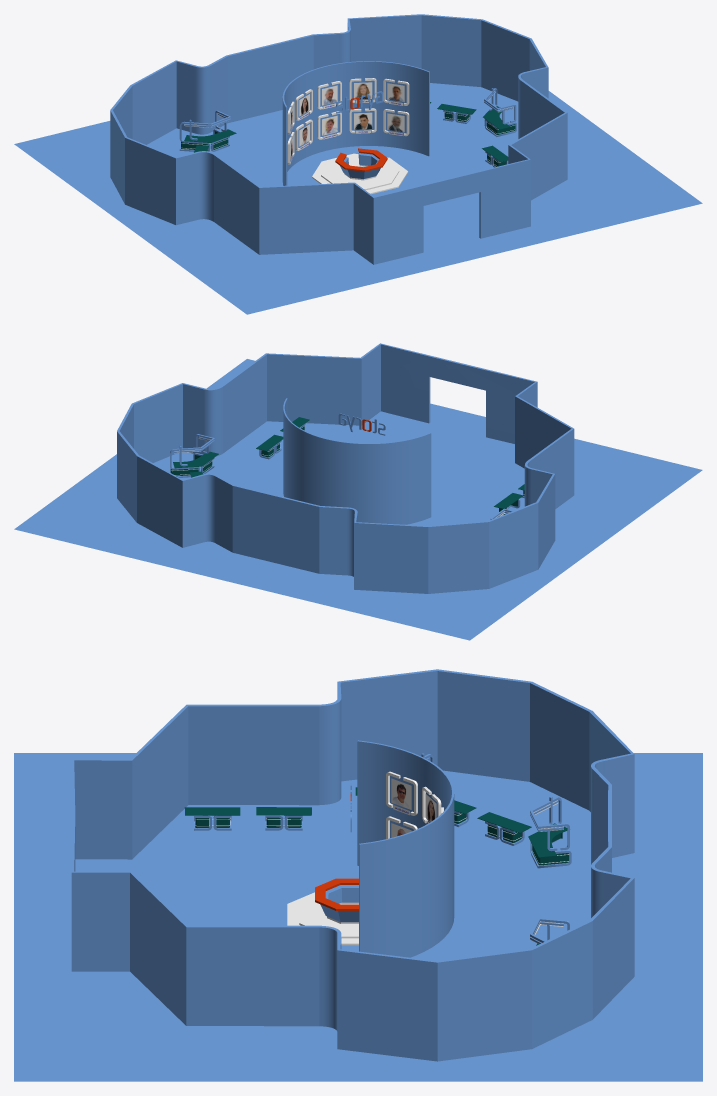
File: SALA STORYA  REFACUTA  01 - GLB (1).glb
3 renders of one model, top to bottom at view 1: azimuth 30°, elevation 25°; view 2: azimuth 150°, elevation 25°; view 3: azimuth 270°, elevation 25°, orthographic. The views are drawn at different scales.
Parts seen in each view (by area): view 1: Line654, Plane088, Tube025, Cylinder18146, Line686, Cylinder18147, Line607, Tube021, Tube020; view 2: Line654, Plane088, Tube025, Line607; view 3: Line654, Plane088, Tube025, Line686, Cylinder18146, Tube021, Tube020.
Boxes of the visible parts, <box> form: Line654: <box>110,14,567,264</box>; Plane088: <box>14,83,702,314</box>; Tube025: <box>282,61,429,185</box>; Cylinder18146: <box>321,156,399,190</box>; Line686: <box>179,110,230,151</box>; Cylinder18147: <box>312,153,408,194</box>; Line607: <box>484,88,516,136</box>; Tube021: <box>340,152,380,178</box>; Tube020: <box>335,148,387,171</box>; Line654: <box>117,343,574,593</box>; Plane088: <box>14,359,702,640</box>; Tube025: <box>283,398,431,524</box>; Line607: <box>170,434,214,477</box>; Line654: <box>71,669,634,1061</box>; Plane088: <box>14,753,702,1081</box>; Tube025: <box>357,740,454,957</box>; Line686: <box>530,796,571,868</box>; Cylinder18146: <box>299,898,358,938</box>; Tube021: <box>320,885,358,922</box>; Tube020: <box>315,878,358,910</box>.
Bounding box in the file's own units: 200 × 36.08 × 177.
24 materials, 20 textured.
